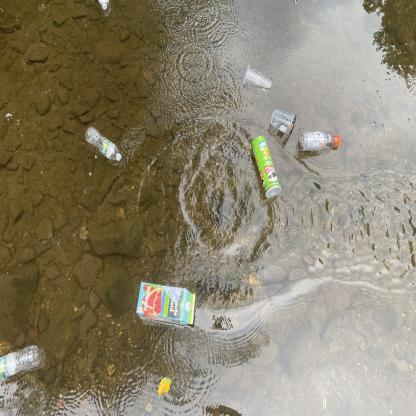trash: (132, 281, 199, 328), (246, 131, 284, 202), (0, 336, 44, 386), (80, 122, 124, 167), (235, 62, 279, 95), (266, 106, 302, 142), (297, 128, 344, 154), (97, 0, 115, 16)
